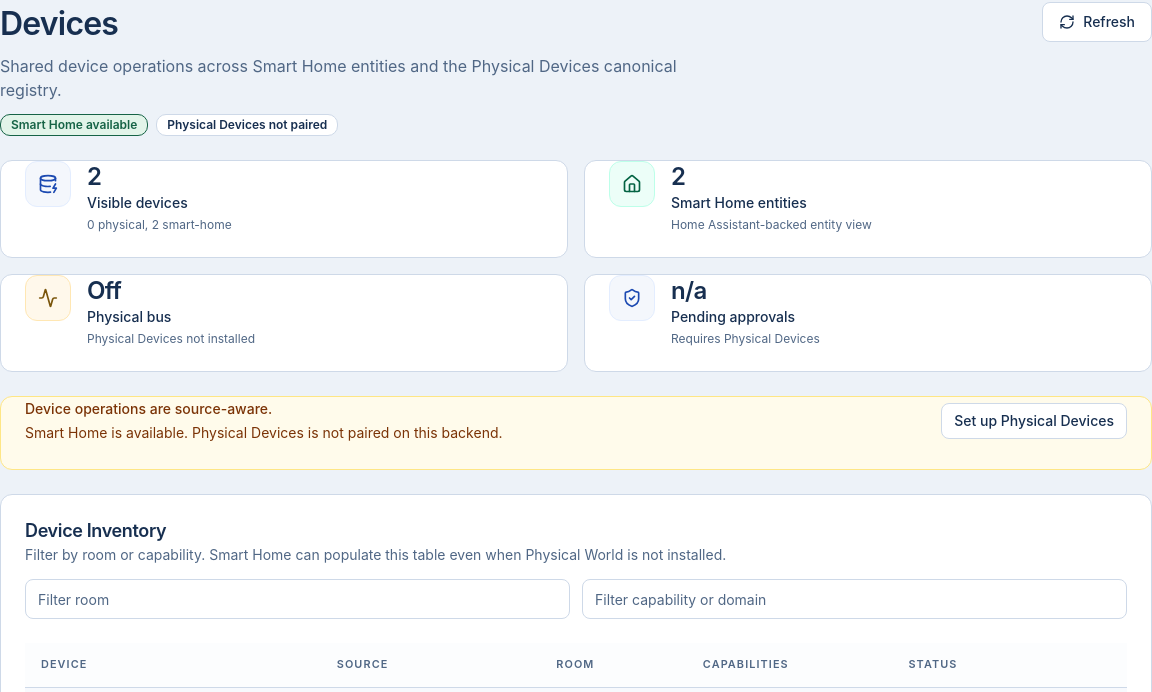
Test case: DevicesWorkspace › filters Smart Home devices by capability or domain on the client
Type "sensor" into the field named "Filter devices by capability".
click(854, 599); type("sensor")  # box [582,579,1127,619]
(page scrolled)
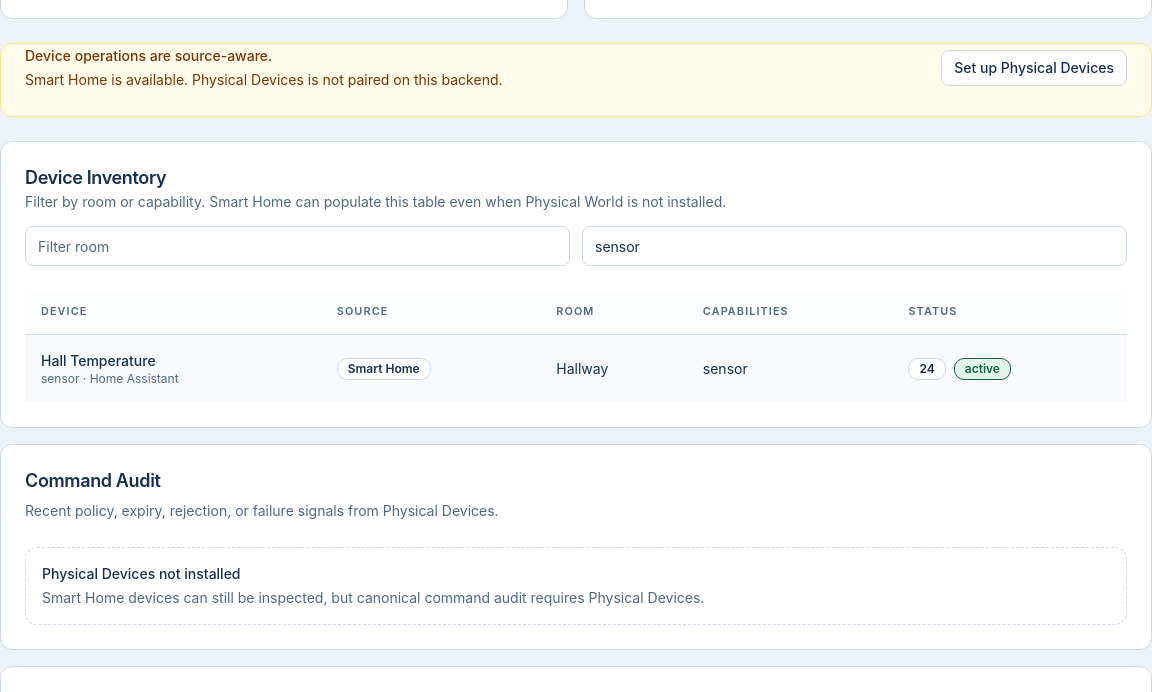
expect the text "Hall Temperature" is shown: met, box [41,352,156,368]
expect the text "Kitchen Counter" is not shown: met
